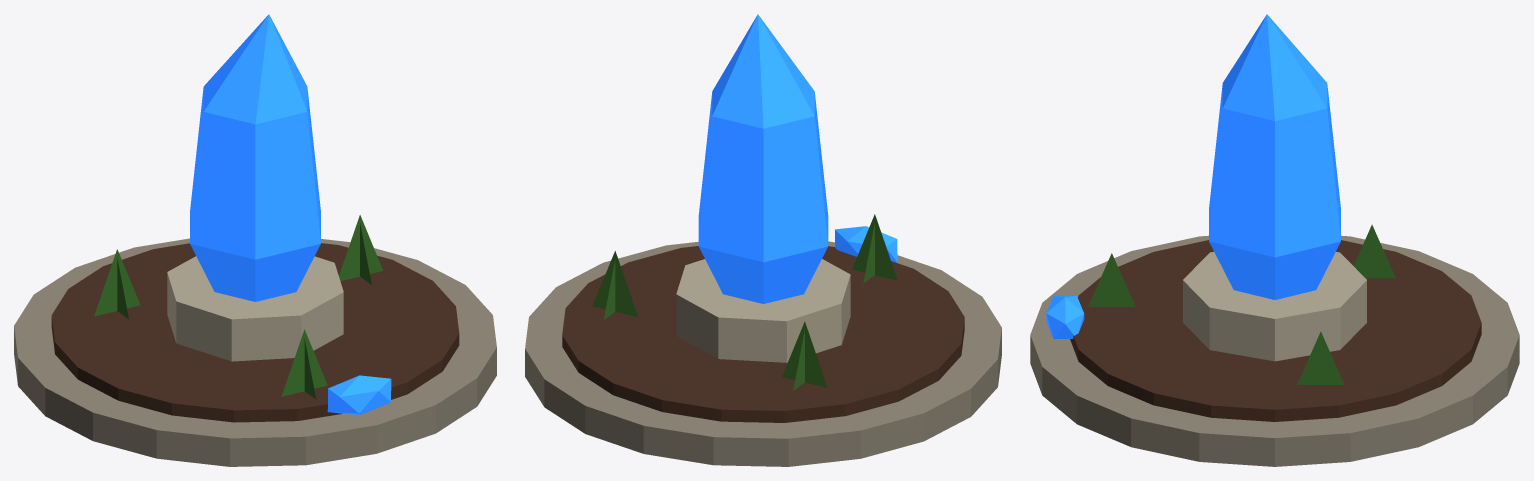
The model's file is topic_plot_in_revision.glb.
3 renders of one model, left to right at view 1: azimuth 30°, elevation 25°; view 2: azimuth 150°, elevation 25°; view 3: azimuth 270°, elevation 25°, orthographic. The views are drawn at different scales.
Visible parts, largest first — view 1: topic_plot_in_revision; view 2: topic_plot_in_revision; view 3: topic_plot_in_revision.
Part boxes in pixels (<box>): topic_plot_in_revision: <box>14,14,496,466</box>; topic_plot_in_revision: <box>525,14,1001,466</box>; topic_plot_in_revision: <box>1030,14,1519,466</box>.
Bounding box in the file's own units: 1.54 × 1.23 × 1.54.
